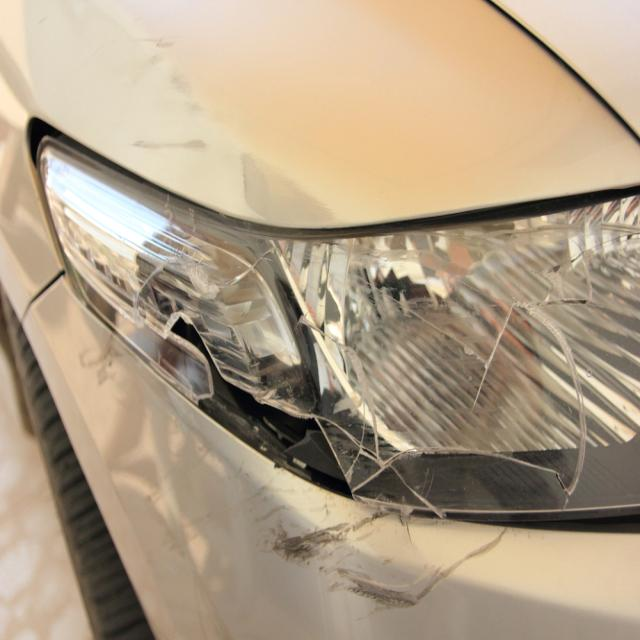Phare abime: (140, 248, 444, 512), (460, 240, 621, 502)
Rayure: (230, 456, 518, 635), (73, 332, 128, 402)
